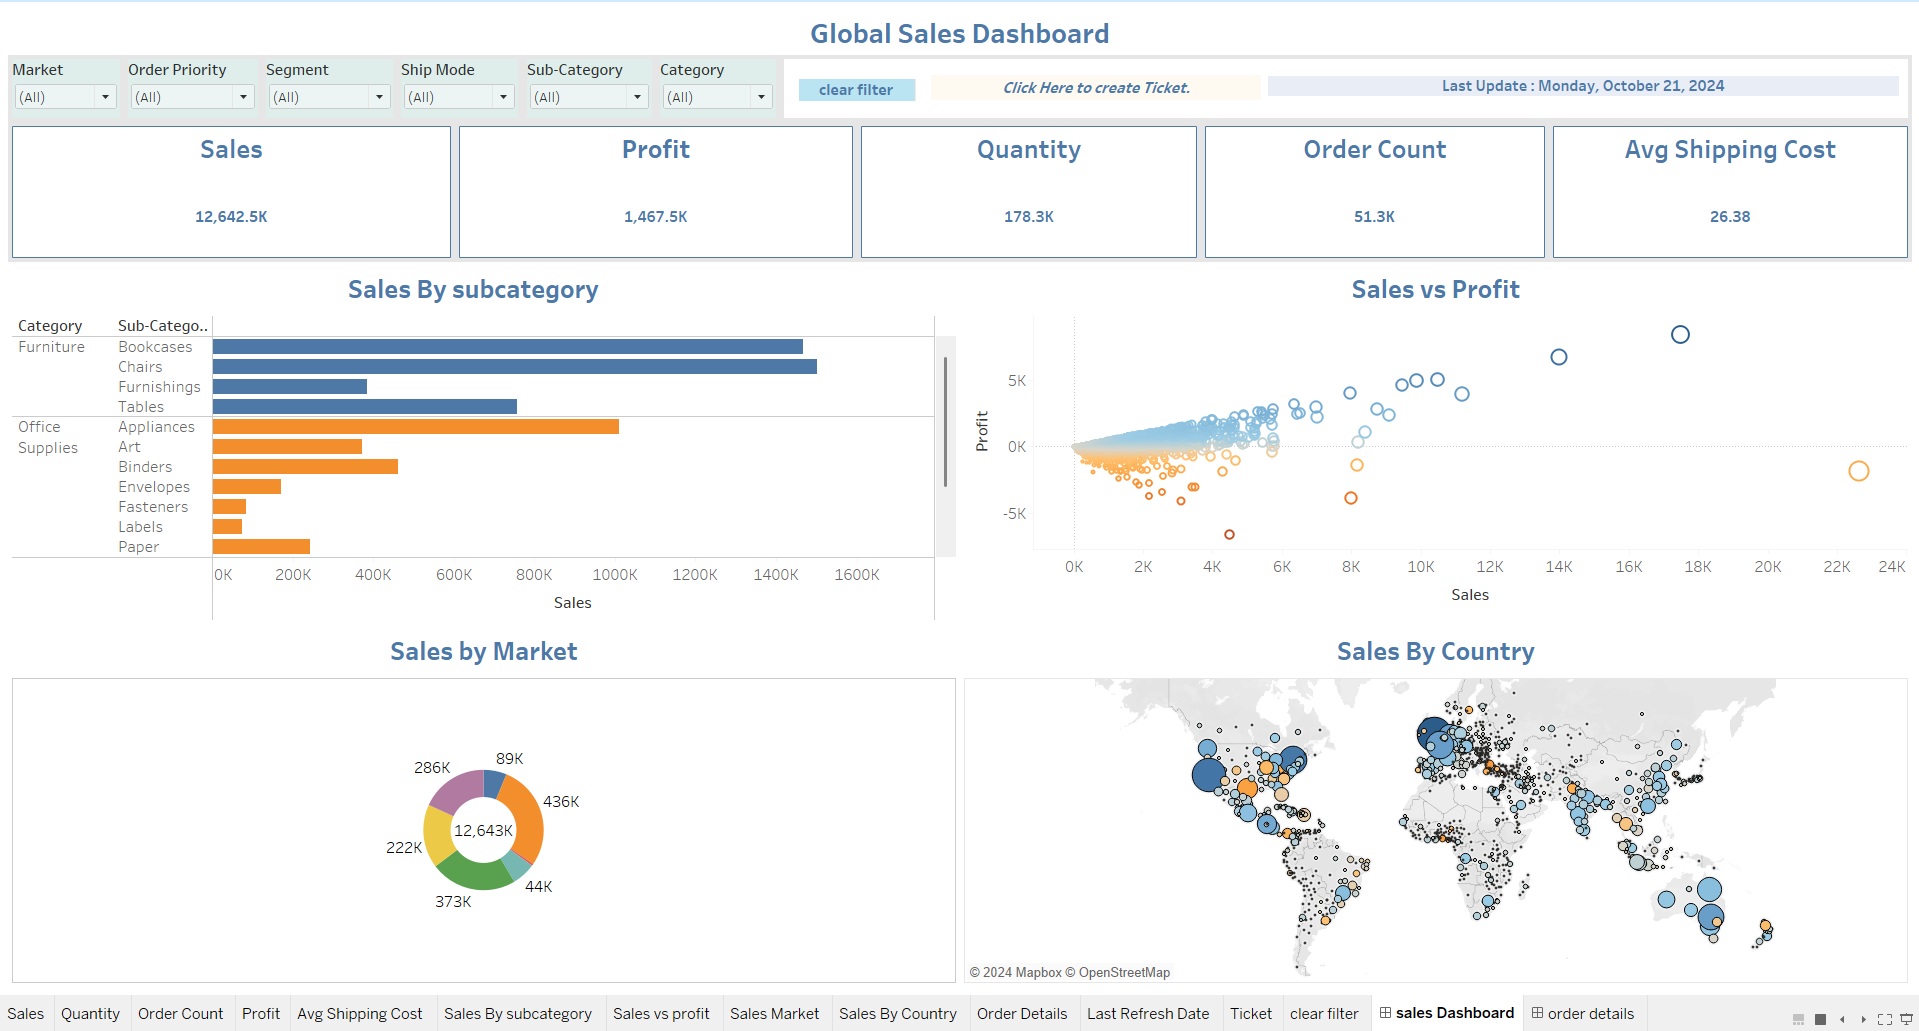

Layout of this report page (visuals, bound fields, positions):
{"tool":"tableau","page":{"name":"sales Dashboard","canvas":[1000,1000],"units":"permille","ordinal":1},"visuals":[{"type":"title","box":[4.8,10,990.3,56.2]},{"type":"filter","title":"Sales","param":"[federated.1iiu1fo1m8pdjc15dl7v40w49yr4].[none:Market:nk]","box":[4.8,66.2,60.2,63.6]},{"type":"filter","title":"Sales","param":"[federated.1iiu1fo1m8pdjc15dl7v40w49yr4].[none:Order Priority:nk]","box":[65,66.2,71.8,63.6]},{"type":"filter","title":"Sales","param":"[federated.1iiu1fo1m8pdjc15dl7v40w49yr4].[none:Segment:nk]","box":[136.8,66.2,70.5,63.6]},{"type":"filter","title":"Sales","param":"[federated.1iiu1fo1m8pdjc15dl7v40w49yr4].[none:Ship Mode:nk]","box":[207.4,66.2,65.1,63.6]},{"type":"filter","title":"Sales","param":"[federated.1iiu1fo1m8pdjc15dl7v40w49yr4].[none:Sub-Category:nk]","box":[272.5,66.2,69.4,63.6]},{"type":"filter","title":"Sales","param":"[federated.1iiu1fo1m8pdjc15dl7v40w49yr4].[none:Category:nk]","box":[341.9,66.2,64.5,63.6]},{"type":"blank","box":[406.3,66.2,588.8,63.6]},{"type":"worksheet","title":"Ticket","mark":"Automatic","box":[484.9,73.7,171.9,25]},{"type":"worksheet","title":"Last Refresh Date","mark":"Automatic","box":[660.4,74.9,328.7,20]},{"type":"worksheet","title":"clear filter","mark":"Automatic","box":[416.2,77.4,60.9,22.5]},{"type":"worksheet","title":"Sales","mark":"Automatic","box":[4.8,129.8,232.4,133.5]},{"type":"worksheet","title":"Profit","mark":"Automatic","box":[237.3,129.8,209.1,133.5]},{"type":"worksheet","title":"Quantity","mark":"Automatic","box":[446.4,129.8,179.1,133.5]},{"type":"worksheet","title":"Order Count","mark":"Automatic","box":[625.5,129.8,180.8,133.5]},{"type":"worksheet","title":"Avg Shipping Cost","mark":"Automatic","box":[806.3,129.8,188.9,133.5]},{"type":"blank","box":[3.6,136.1,888.4,121.1]},{"type":"worksheet","title":"Sales By subcategory","mark":"Automatic","rows":["Category","Sub-Category"],"cols":["Sales"],"box":[4.8,263.3,495,363.4]},{"type":"worksheet","title":"Sales vs profit","mark":"Automatic","rows":["Profit"],"cols":["Sales"],"box":[499.8,263.3,495.3,363.4]},{"type":"worksheet","title":"Sales Market","mark":"Pie","rows":["Calculation_353814051731095552","Calculation_353814051731095552"],"box":[4.8,626.6,495,363.4]},{"type":"worksheet","title":"Sales By Country","mark":"Automatic","box":[499.8,626.6,495.3,363.4]}]}

Visuals, with their boxes on the dashboard's canvas, which has no fixed pixel size, in thousandths of its width and height (x1, y1, x2, y2). These are canvas units, not pixel positions in the 1919x1031 screenshot, which may show the page scaled, cropped or inside an application window:
title: bbox=(5, 10, 995, 66)
"Sales" filter: bbox=(5, 66, 65, 130)
"Sales" filter: bbox=(65, 66, 137, 130)
"Sales" filter: bbox=(137, 66, 207, 130)
"Sales" filter: bbox=(207, 66, 272, 130)
"Sales" filter: bbox=(272, 66, 342, 130)
"Sales" filter: bbox=(342, 66, 406, 130)
blank: bbox=(406, 66, 995, 130)
"Ticket" worksheet: bbox=(485, 74, 657, 99)
"Last Refresh Date" worksheet: bbox=(660, 75, 989, 95)
"clear filter" worksheet: bbox=(416, 77, 477, 100)
"Sales" worksheet: bbox=(5, 130, 237, 263)
"Profit" worksheet: bbox=(237, 130, 446, 263)
"Quantity" worksheet: bbox=(446, 130, 626, 263)
"Order Count" worksheet: bbox=(626, 130, 806, 263)
"Avg Shipping Cost" worksheet: bbox=(806, 130, 995, 263)
blank: bbox=(4, 136, 892, 257)
"Sales By subcategory" worksheet: bbox=(5, 263, 500, 627)
"Sales vs profit" worksheet: bbox=(500, 263, 995, 627)
"Sales Market" worksheet (Pie marks): bbox=(5, 627, 500, 990)
"Sales By Country" worksheet: bbox=(500, 627, 995, 990)
